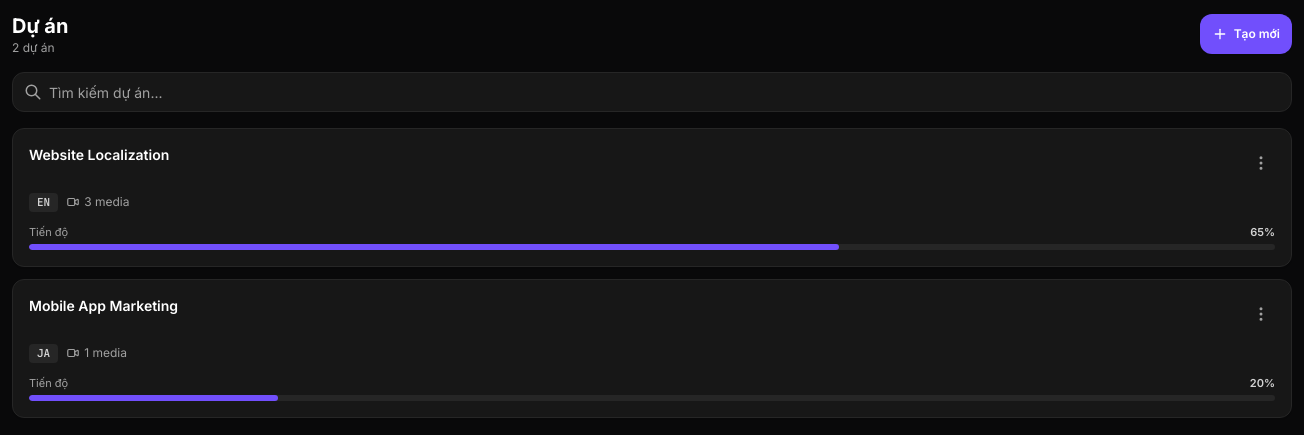
Test: MobileProjectListPage › filters projects based on search query
Note: Filter for "Website"
Type "Website" into the field with placeholder "Tìm kiếm dự án..." at (652, 92), box [12,72,1292,112]
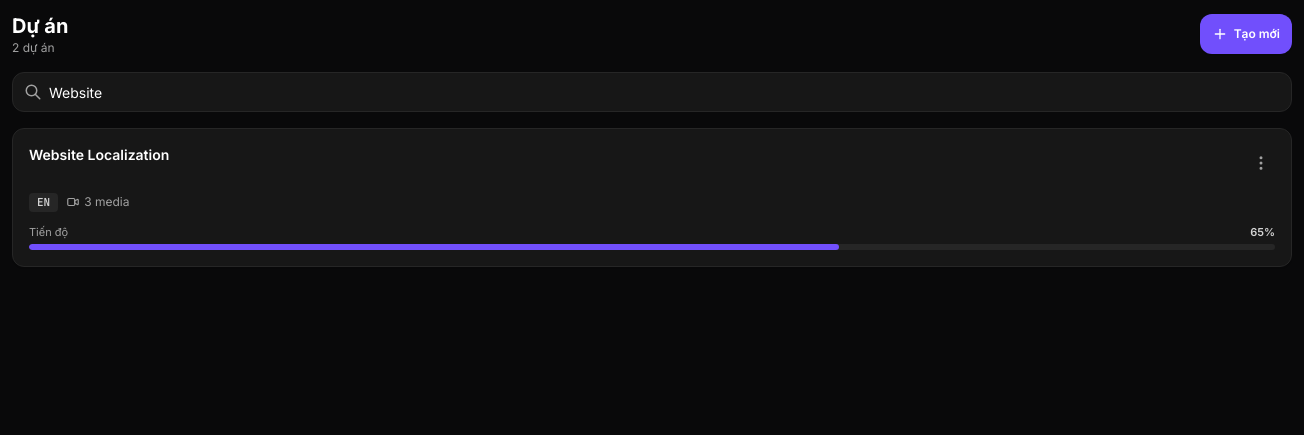
Expected: the link "Website Localization" is shown, [29,146,169,163]
Expected: the link "Mobile App Marketing" is gone
Note: Filter for "Marketing"
Replace the text in the field with placeholder "Tìm kiếm dự án..." with "Marketing" at (652, 92), box [12,72,1292,112]
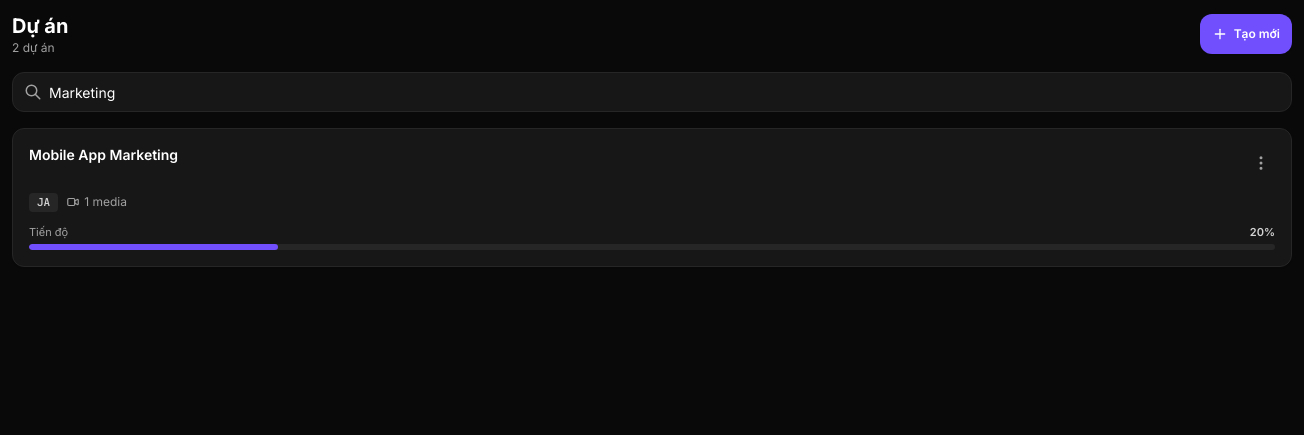
Expected: the link "Website Localization" is gone
Expected: the link "Mobile App Marketing" is shown, [29,146,178,163]
